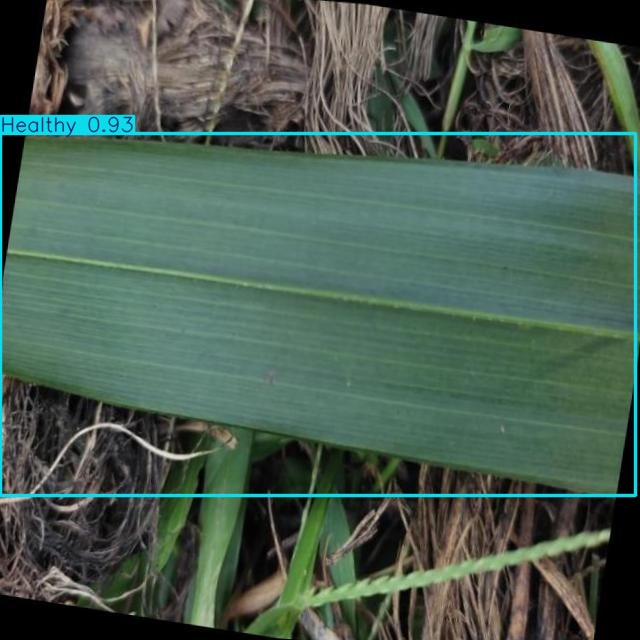Healthy: (1, 134, 636, 496)
